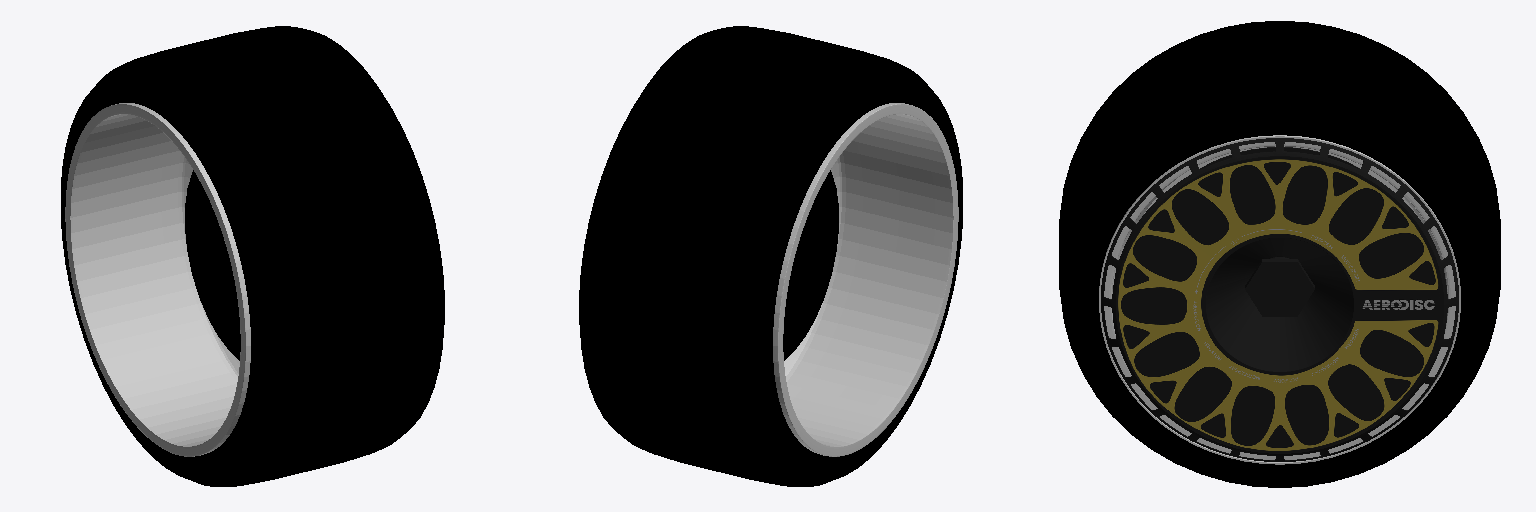
3 views of the same model, side by side, from view 1: azimuth 30°, elevation 25°; view 2: azimuth 150°, elevation 25°; view 3: azimuth 270°, elevation 25° (orthographic).
Visible parts, largest first — view 1: R20Wa_RR_Tire, Circle.013_Circle.015, R20Wa_RR_BrakeDisc; view 2: R20Wa_RR_Tire, Circle.013_Circle.015, R20Wa_RR_BrakeDisc; view 3: Circle.010_Circle.011, R20Wa_RR_Tire, Circle.013_Circle.015, Circle.012_Circle.009.
Part boxes in pixels (bbox=[...]): R20Wa_RR_Tire: bbox=[61, 26, 444, 486]; Circle.013_Circle.015: bbox=[65, 103, 250, 456]; R20Wa_RR_BrakeDisc: bbox=[185, 170, 240, 360]; R20Wa_RR_Tire: bbox=[579, 26, 962, 486]; Circle.013_Circle.015: bbox=[773, 103, 958, 456]; R20Wa_RR_BrakeDisc: bbox=[783, 170, 838, 360]; Circle.010_Circle.011: bbox=[1101, 138, 1458, 461]; R20Wa_RR_Tire: bbox=[1059, 21, 1500, 487]; Circle.013_Circle.015: bbox=[1099, 135, 1460, 464]; Circle.012_Circle.009: bbox=[1245, 259, 1314, 316].
Bounding box in the file's own units: 1.37 × 2.61 × 2.61.
5 materials, 2 textured.